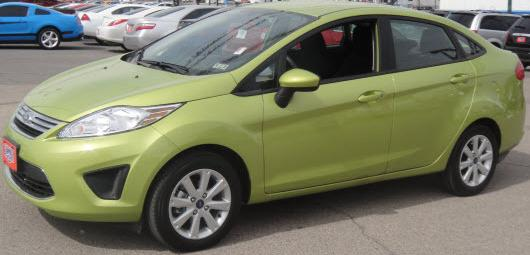front_view: (11, 86, 151, 207)
headlight: (74, 95, 205, 140)
side_glass: (263, 9, 471, 83)
